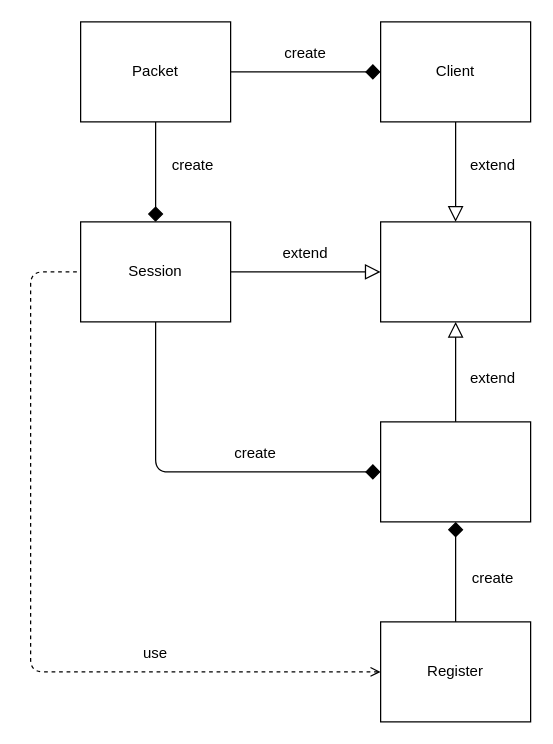
Some shapes in this 553 by 744 pixel diagram are drawn without their labels. Each missing label, with the centre of its shape:
Broker: [455,471]
Thread: [455,271]
